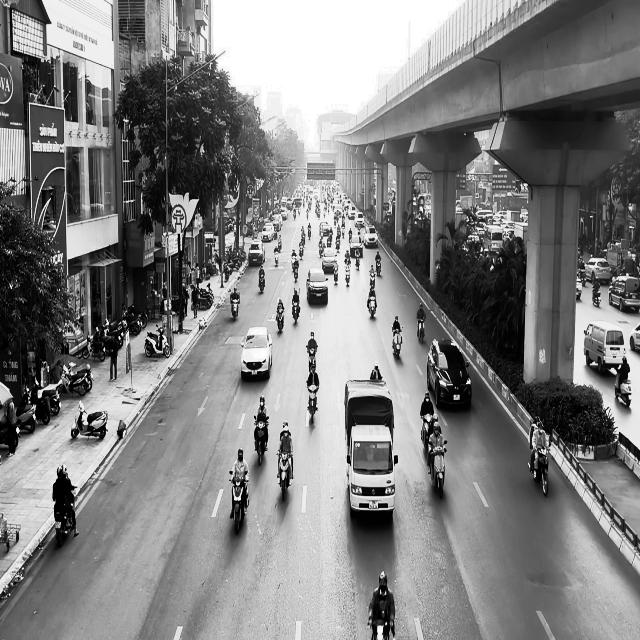car: (426, 338, 472, 409), (240, 326, 273, 380), (306, 268, 328, 304), (248, 240, 265, 266), (629, 322, 640, 352)
motorbike: (70, 399, 108, 440), (53, 486, 78, 547), (528, 435, 551, 496), (228, 473, 250, 534), (427, 441, 447, 498), (144, 323, 170, 358), (276, 451, 293, 501), (253, 415, 268, 466), (614, 369, 632, 407), (306, 383, 319, 424), (421, 412, 434, 450), (391, 324, 403, 358), (306, 345, 317, 374), (416, 314, 426, 344), (367, 288, 377, 318), (230, 292, 240, 320), (292, 298, 300, 324), (276, 305, 284, 331), (592, 287, 601, 307), (344, 261, 351, 286), (258, 271, 265, 293), (291, 258, 298, 280), (333, 260, 339, 284), (375, 258, 381, 276), (355, 250, 360, 270), (274, 247, 278, 266)
